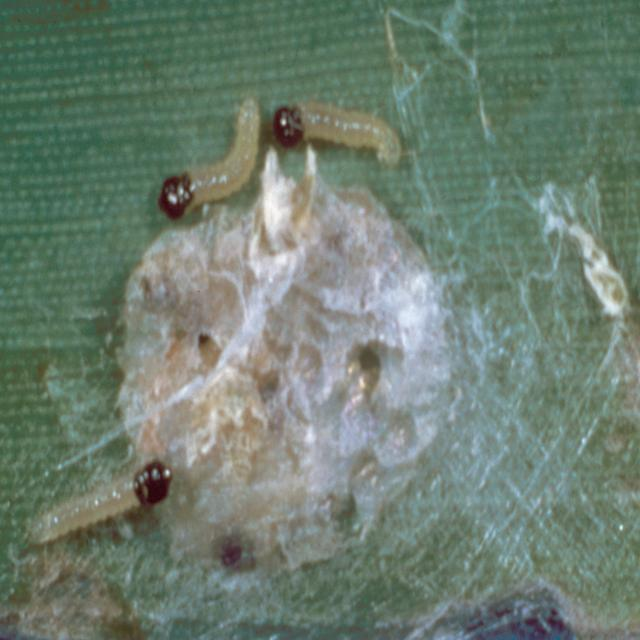cornborer-Larva-: (154, 93, 265, 225), (27, 457, 173, 556), (267, 90, 416, 176)
